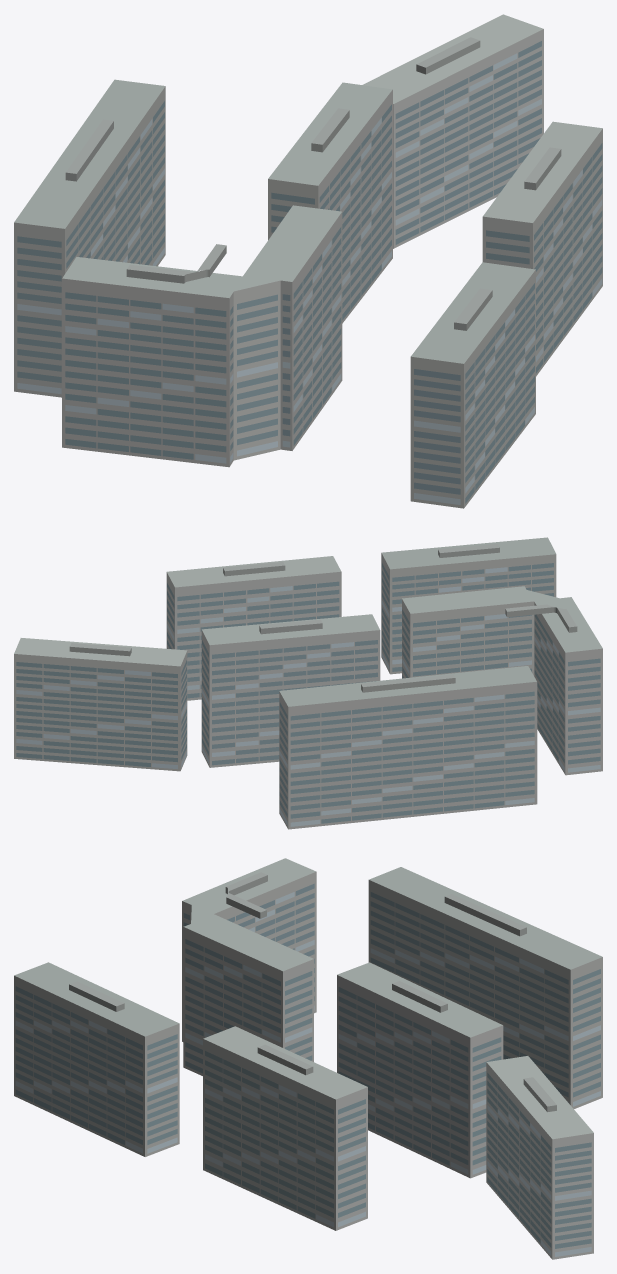
The model's file is apt-a13790004.glb.
3 renders of one model, top to bottom at view 1: azimuth 30°, elevation 25°; view 2: azimuth 150°, elevation 25°; view 3: azimuth 270°, elevation 25°, orthographic. The views are drawn at different scales.
Visible parts, largest first — view 1: apt-a13790004; view 2: apt-a13790004; view 3: apt-a13790004.
Part boxes in pixels (left/top/right/bottom): apt-a13790004: left=14, top=14, right=602, bottom=508; apt-a13790004: left=14, top=537, right=602, bottom=829; apt-a13790004: left=14, top=858, right=602, bottom=1259.
Size of the model in its own units: 182 by 47.81 by 173.
